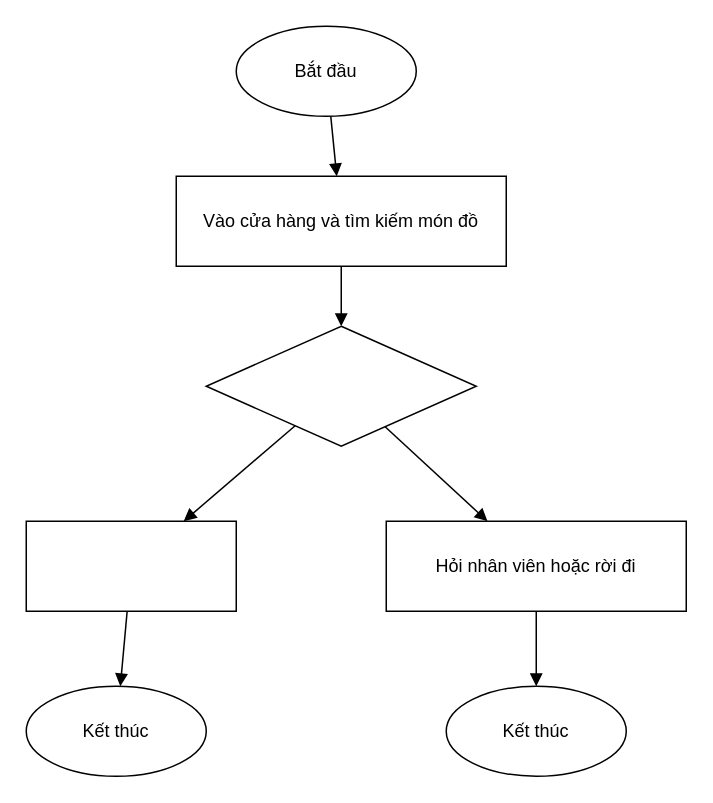
The diagram is 713 pixels wide and 803 high, and some of its shapes have lost their labels. The box of each missing label's shape, as (x1, y1, x2, y2) in pixels:
Mua món đồ: (25, 520, 236, 611)
Món đồ có trong cửa hàng?: (205, 325, 476, 446)
